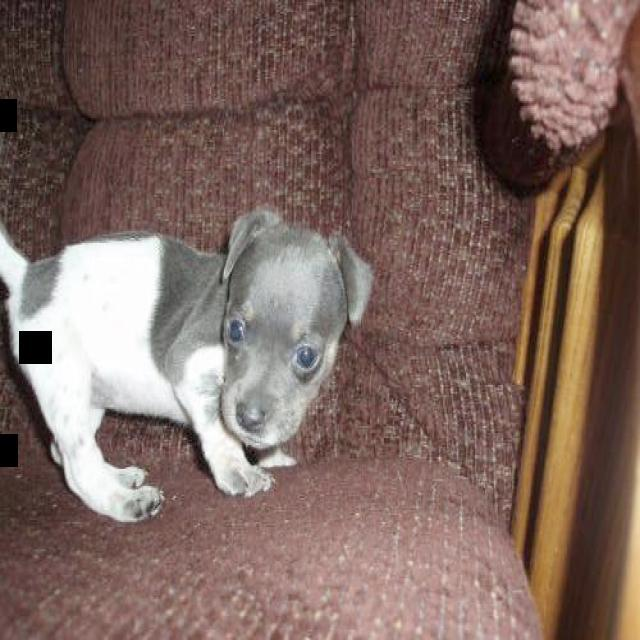puppy-dog: (0, 212, 374, 523)
